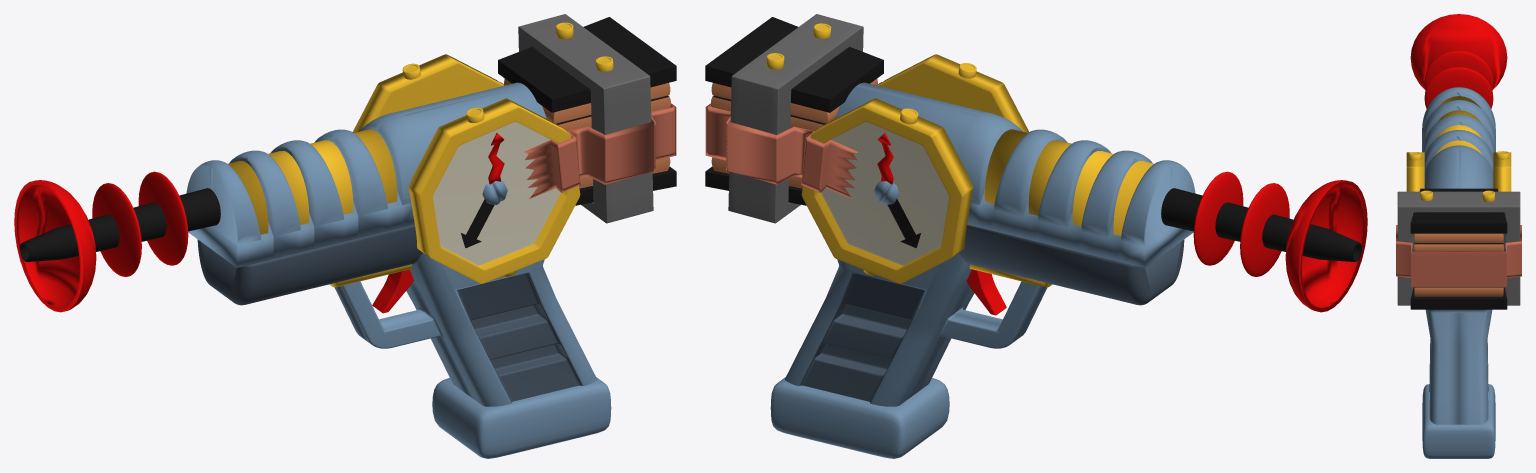
Rendered from laserBea.fbx.
3 views of the same model, side by side, from view 1: azimuth 30°, elevation 25°; view 2: azimuth 150°, elevation 25°; view 3: azimuth 270°, elevation 25° (orthographic). The views are drawn at different scales.
Parts seen in each view (by area): view 1: Cube.002, Cube, Cube.007, Cube.003, Cube.008, Cube.006, Cube.001, Cube.009, Sphere.002, Cylinder.001, Cylinder, Sphere.001 (+2 smaller); view 2: Cube.002, Cube, Cube.007, Cube.003, Cube.008, Cube.006, Cube.001, Cube.009, Sphere.002, Cylinder.001, Cylinder, Sphere.001 (+2 smaller); view 3: Cube.007, Cube, Cube.001, Cube.009, Cube.003, Sphere.002, Cube.008, Sphere, Cube.002, Sphere.001, Cylinder.001.
Boxes of the visible parts, box(x1,y1,x2,y2) form: Cube.002: box(353, 54, 580, 283); Cube: box(186, 82, 546, 267); Cube.007: box(335, 253, 596, 406); Cube.003: box(518, 14, 653, 223); Cube.008: box(432, 377, 611, 458); Cube.006: box(197, 224, 422, 305); Cube.001: box(498, 17, 676, 205); Cube.009: box(500, 82, 676, 198); Sphere.002: box(14, 180, 96, 312); Cylinder.001: box(228, 129, 397, 234); Cylinder: box(20, 188, 220, 261); Sphere.001: box(92, 183, 141, 276); Cube.002: box(801, 54, 1028, 283); Cube: box(835, 82, 1195, 267); Cube.007: box(785, 253, 1046, 406); Cube.003: box(728, 14, 863, 223); Cube.008: box(770, 377, 949, 458); Cube.006: box(959, 224, 1184, 305); Cube.001: box(705, 17, 883, 205); Cube.009: box(705, 82, 881, 198); Sphere.002: box(1285, 180, 1367, 312); Cylinder.001: box(984, 129, 1153, 235); Cylinder: box(1161, 188, 1361, 261); Sphere.001: box(1240, 183, 1289, 276); Cube.007: box(1425, 309, 1492, 424); Cube: box(1422, 87, 1495, 188); Cube.001: box(1410, 188, 1507, 309); Cube.009: box(1396, 225, 1521, 287); Cube.003: box(1397, 191, 1520, 305); Sphere.002: box(1410, 14, 1507, 90); Cube.008: box(1422, 384, 1495, 458); Sphere: box(1424, 67, 1493, 108); Cube.002: box(1406, 152, 1511, 191); Sphere.001: box(1424, 51, 1493, 89); Cylinder.001: box(1435, 96, 1482, 154).
Bounding box in the file's own units: 316 × 183 × 77.78.
